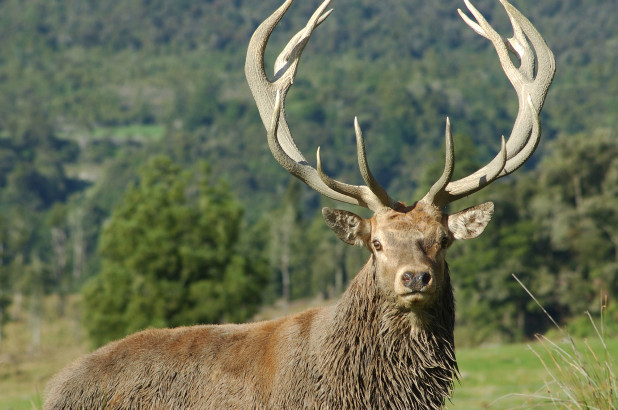Deer: (42, 1, 559, 410)
